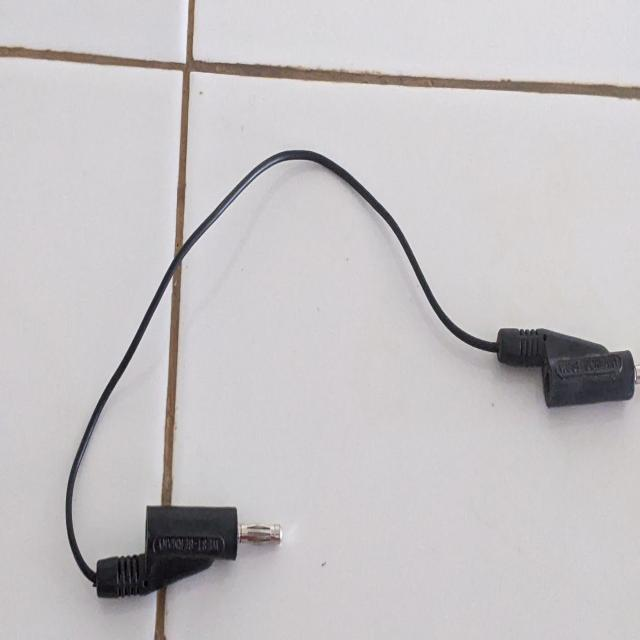BNC Cable: (62, 143, 640, 610)
